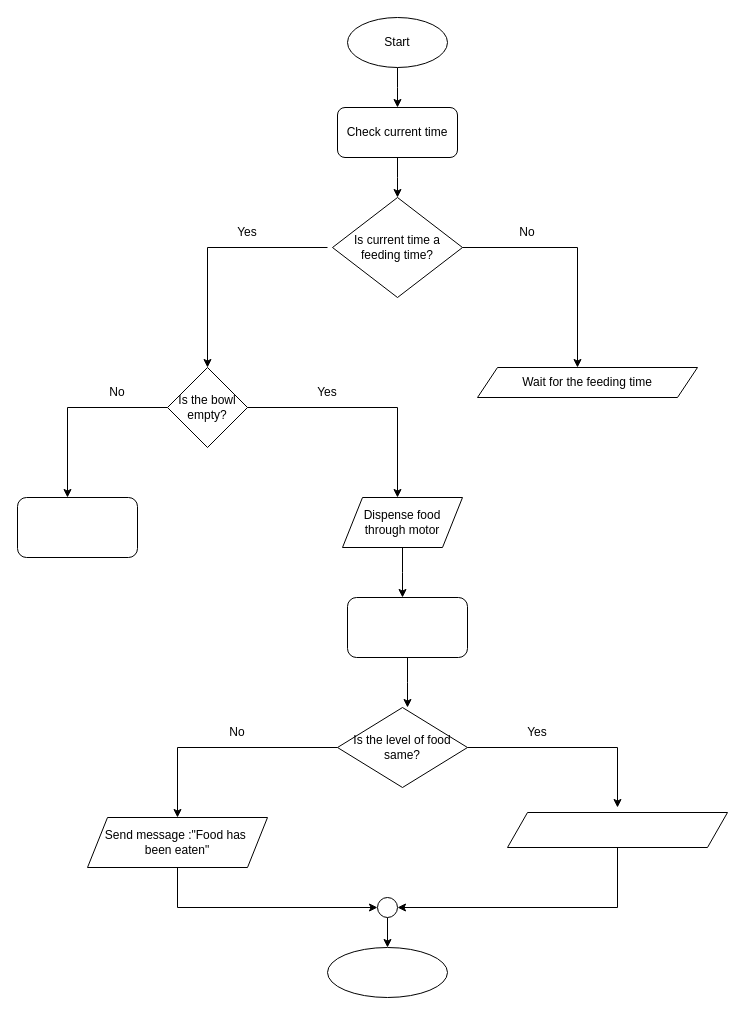
This 745x1015 diagram has some shape labels left out. Here are the shapes that lost their labels. From the top down, the centre of each, then its label:
the point at 77,527: Wait until bowl gets empty
the point at 407,627: Wait for 15 minutes
the point at 617,830: Ring the alarm with sound: "Food has not been eaten"
the point at 387,972: End
